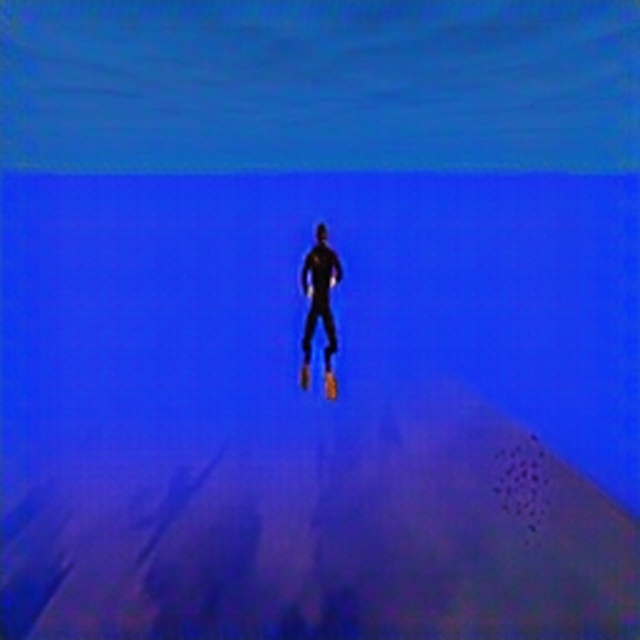diver: (296, 219, 345, 396)
